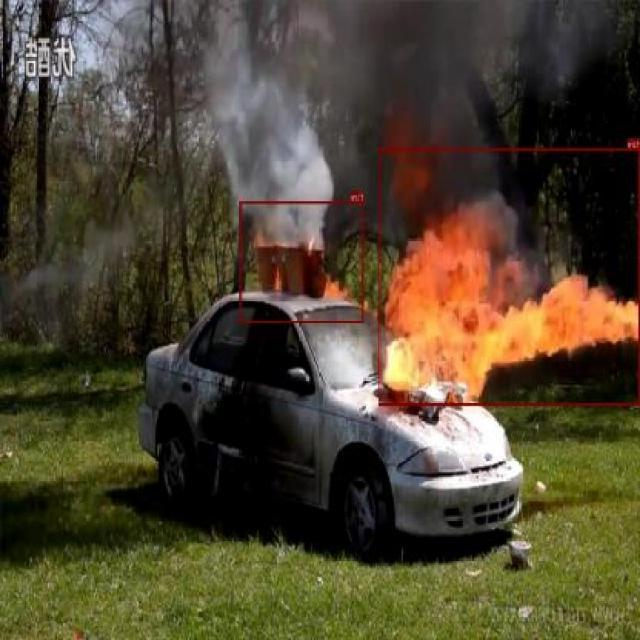Fire: (380, 148, 640, 404), (241, 200, 364, 322)
